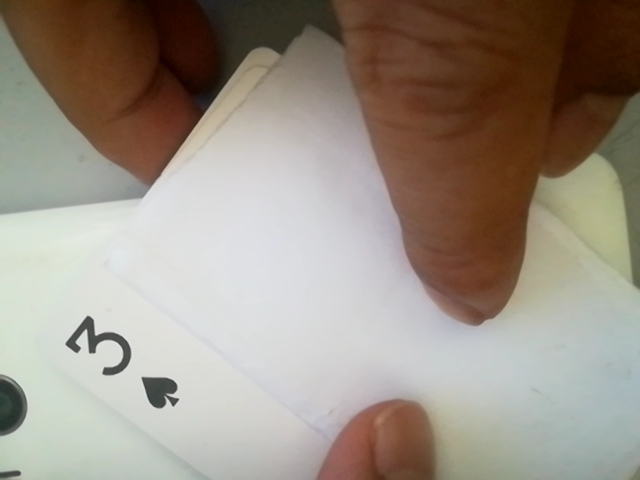ht 3: (52, 304, 197, 422)
